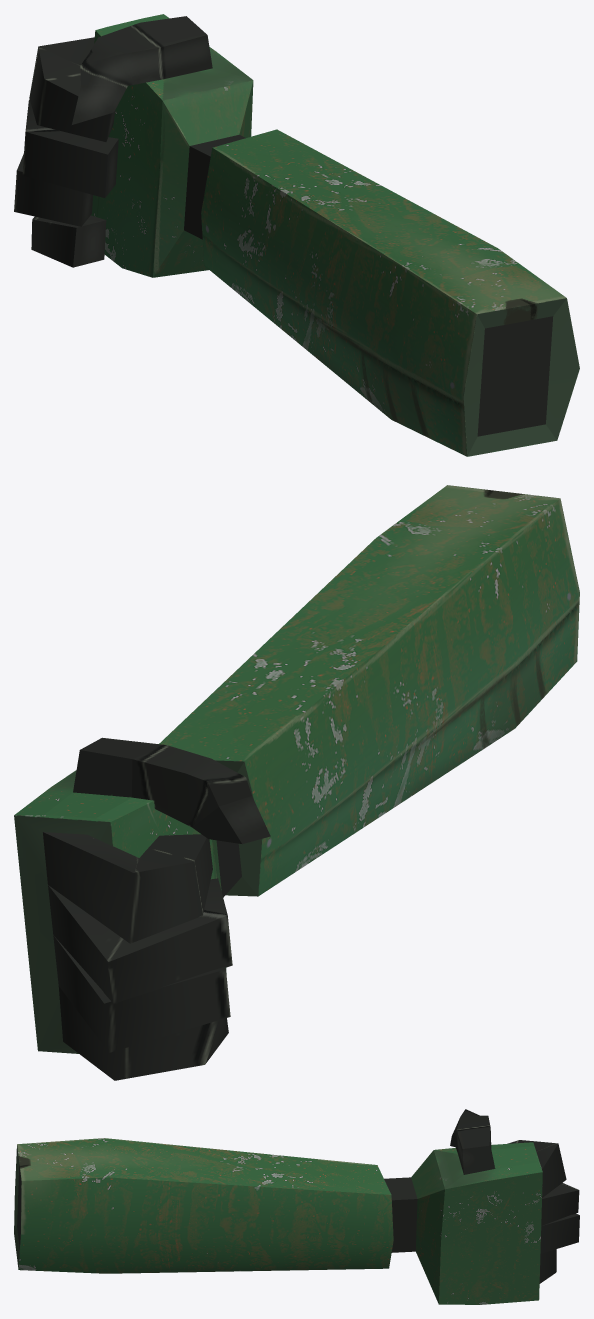
Rendered from JUST_Forearm_Fist.fbx.
3 renders of one model, top to bottom at view 1: azimuth 30°, elevation 25°; view 2: azimuth 150°, elevation 25°; view 3: azimuth 270°, elevation 25°, orthographic. The views are drawn at different scales.
Visible parts, largest first — view 1: Arm8; view 2: Arm8; view 3: Arm8.
Boxes of the visible parts, x1,y1,x2,y2 form: Arm8: [14, 14, 579, 456]; Arm8: [14, 485, 579, 1080]; Arm8: [14, 1109, 579, 1304].
Bounding box in the file's own units: 0.1039 × 0.1188 × 0.3844.
1 material, 1 textured.
